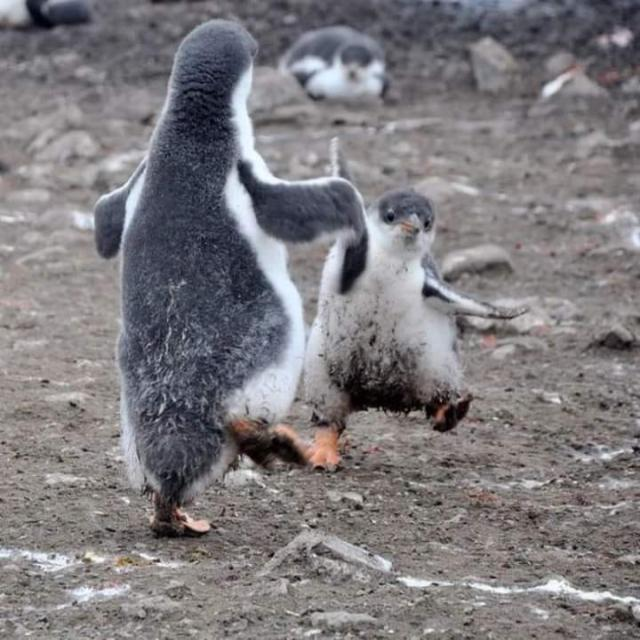Penguins: (105, 8, 322, 563), (297, 182, 477, 476)
